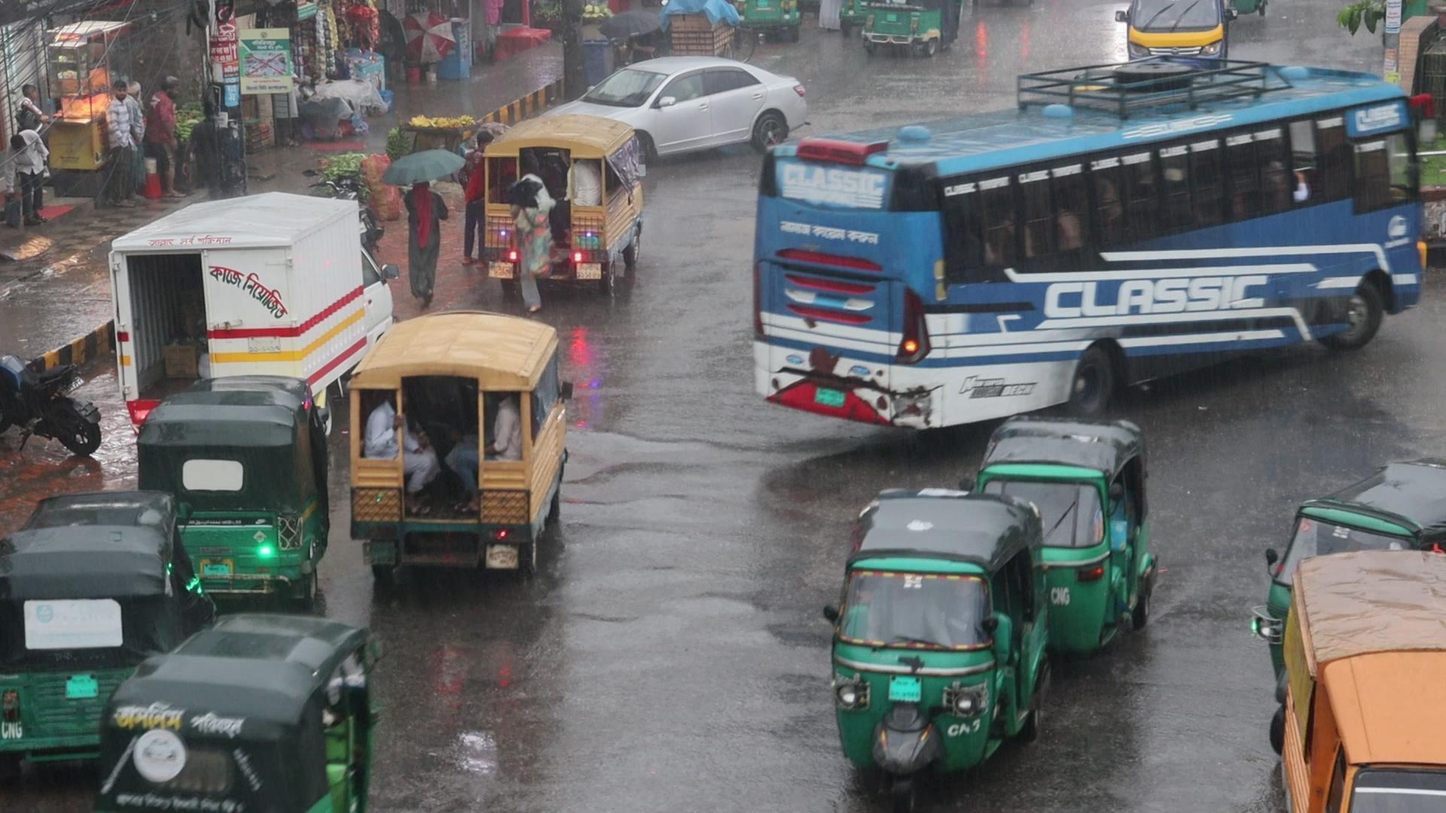Bus: (747, 48, 1430, 425)
Car: (612, 53, 814, 142)
Truck: (340, 309, 572, 574), (477, 109, 647, 301)
